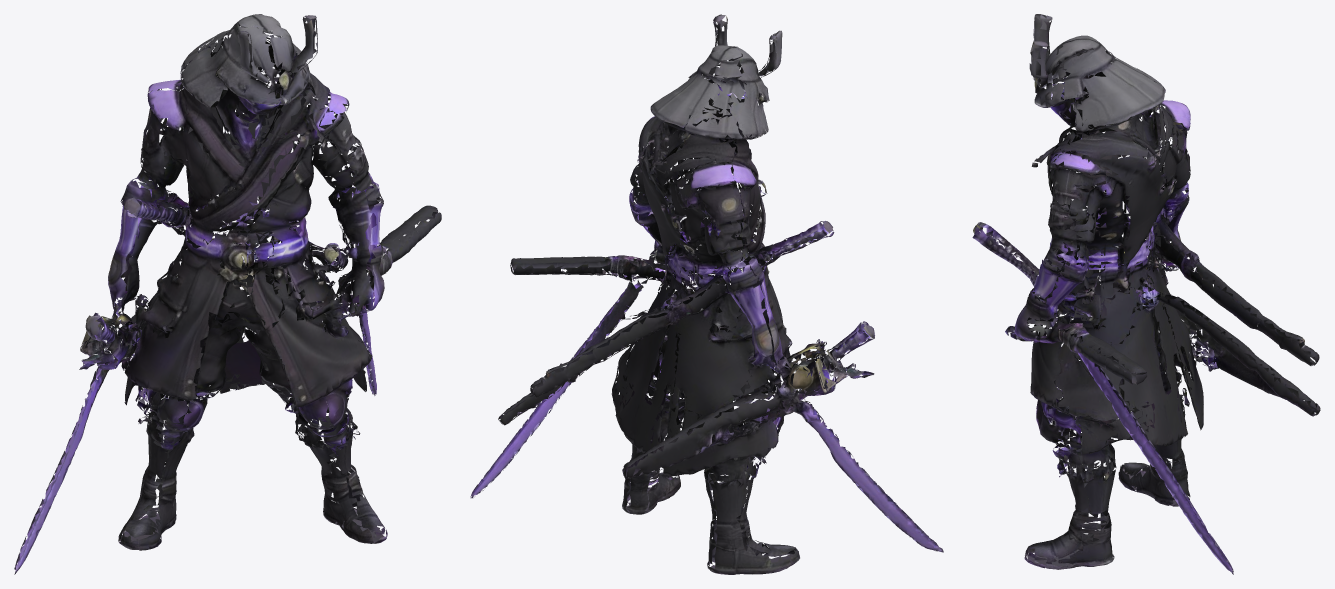
The model's file is ronin-kustom.glb.
3 views of the same model, side by side, from view 1: azimuth 30°, elevation 25°; view 2: azimuth 150°, elevation 25°; view 3: azimuth 270°, elevation 25° (orthographic). The views are drawn at different scales.
Visible parts, largest first — view 1: ronin; view 2: ronin; view 3: ronin.
Part boxes in pixels (bbox=[...]): ronin: bbox=[14, 14, 441, 574]; ronin: bbox=[470, 14, 943, 574]; ronin: bbox=[972, 14, 1320, 574].
Size of the model in its own units: 1.75 by 2 by 1.28.
1 material, 1 textured.
